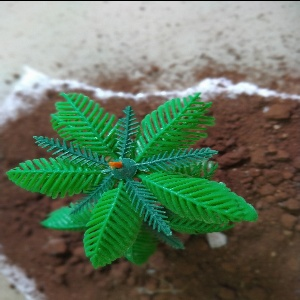plant: (17, 89, 230, 255)
